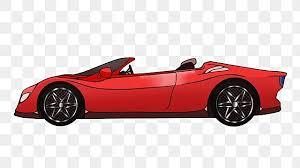non-mango: (13, 56, 287, 127)
